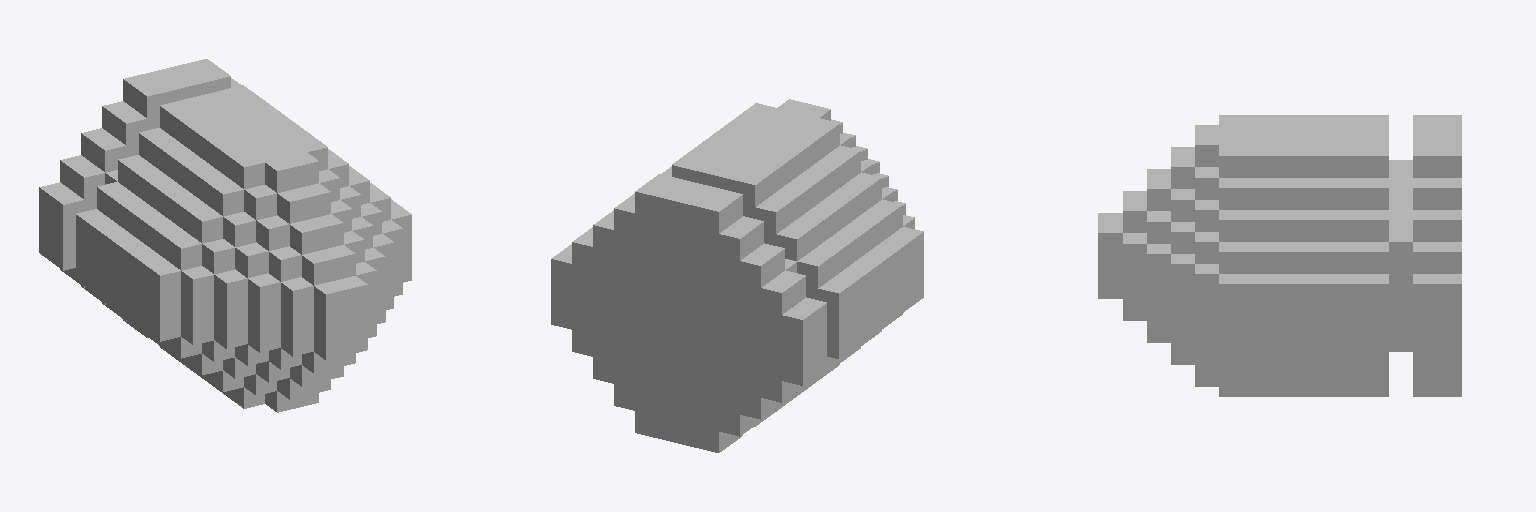
The model's file is Bullet.obj.
The picture shows the model from 3 angles: view 1: azimuth 30°, elevation 25°; view 2: azimuth 150°, elevation 25°; view 3: azimuth 270°, elevation 25°; orthographic projection.
Visible parts, largest first — view 1: object 1; view 2: object 1; view 3: object 1.
Part boxes in pixels (x1,y1,x2,y2): object 1: (39, 59, 411, 412); object 1: (551, 99, 923, 452); object 1: (1098, 115, 1461, 396).
Bounding box in the file's own units: 1.2 × 1.1 × 1.5.